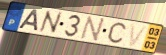3: (62, 14, 83, 39)
A: (17, 8, 39, 32)
C: (107, 22, 127, 45)
N: (79, 15, 107, 43), (38, 9, 64, 35)
V: (129, 22, 149, 48)
